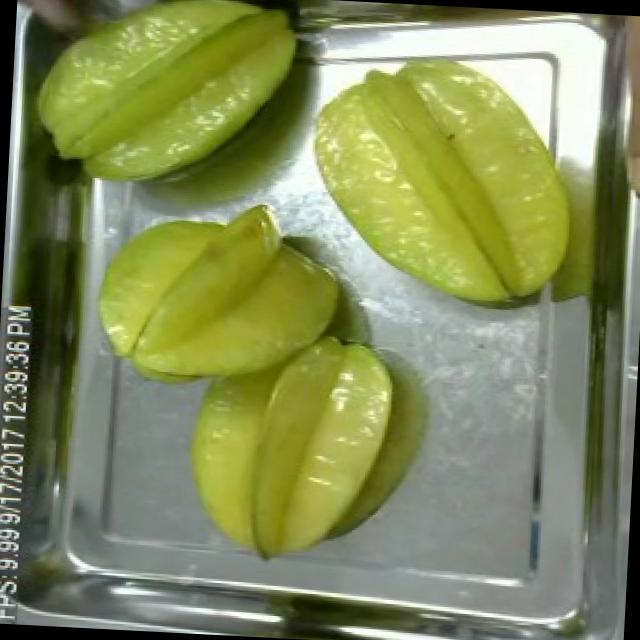fruit: (293, 37, 590, 325), (11, 0, 314, 209), (80, 186, 361, 410), (173, 315, 407, 578)
